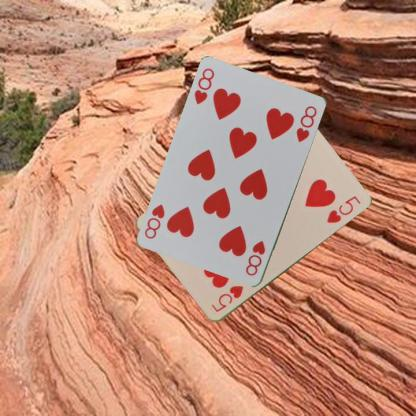5h: (209, 283, 245, 314)
8h: (243, 238, 267, 278), (192, 66, 216, 106)
